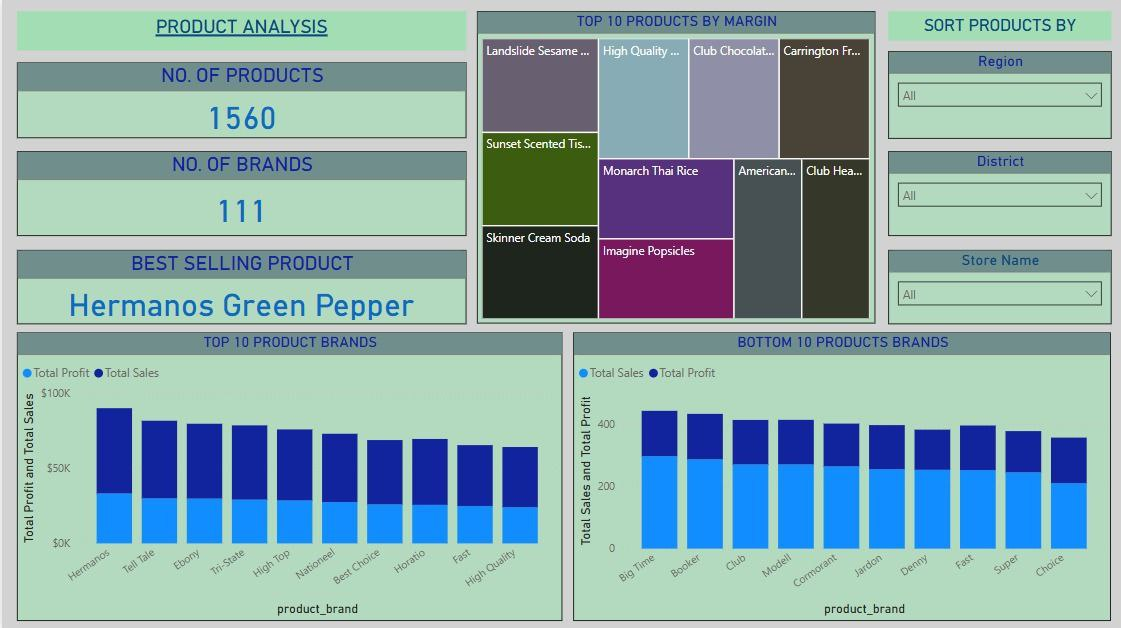

The page's visual inventory and layout, read from the dashboard file:
{"tool":"powerbi","page":{"name":"Product analysis","canvas":[1280,720],"ordinal":4},"visuals":[{"type":"columnChart","title":"BOTTOM 10 PRODUCTS BRANDS","fields":{"Category":["products.product_brand"],"Y":["Transactions _1997.Total Sales","Transactions _1997.Total Profit"]},"box":[653.2,380.1,614.8,329.3],"z":0},{"type":"columnChart","title":"TOP 10 PRODUCT BRANDS","fields":{"Category":["products.product_brand"],"Y":["Transactions _1997.Total Profit","Transactions _1997.Total Sales"]},"box":[16.5,380.1,623,329.3],"z":1000},{"type":"treemap","title":"TOP 10 PRODUCTS BY MARGIN","fields":{"Group":["products.product_name"],"Values":["Sum(products.ProductMargin%)"]},"box":[543.3,13.3,455,356.7],"z":2000},{"type":"slicer","title":"Region","fields":{"Values":["Regions.sales_region"]},"box":[1013.3,58.3,255,100],"z":3000},{"type":"slicer","title":"District","fields":{"Values":["Regions.sales_district"]},"box":[1013.3,173.3,255,96.7],"z":4000},{"type":"slicer","title":"Store Name","fields":{"Values":["Market_Stores.store_name"]},"box":[1013.3,285,255,85],"z":5000},{"type":"textbox","box":[1013.3,13.3,255,33.3],"z":6000},{"type":"card","title":"BEST SELLING PRODUCT","fields":{"Values":["Min(products.product_name)"]},"box":[16.7,285,513.3,85],"z":7000},{"type":"textbox","box":[16.7,13.3,513.3,45],"z":8000},{"type":"card","title":"NO. OF BRANDS","fields":{"Values":["Count(products.product_brand)"]},"box":[16.7,173.3,513.3,96.7],"z":9000},{"type":"card","title":"NO. OF PRODUCTS","fields":{"Values":["Count(products.product_name)"]},"box":[16.7,71.7,513.3,86.7],"z":10000}]}

Visuals, with their boxes in screenshot pixels (x1, y1, x2, y2), scaled from the page's 1280x720 canvas onto the 1121x628 screenshot:
"BOTTOM 10 PRODUCTS BRANDS" columnChart: pyautogui.locateOnScreen(572, 332, 1110, 619)
"TOP 10 PRODUCT BRANDS" columnChart: pyautogui.locateOnScreen(14, 332, 560, 619)
"TOP 10 PRODUCTS BY MARGIN" treemap: pyautogui.locateOnScreen(476, 12, 874, 323)
"Region" slicer: pyautogui.locateOnScreen(887, 51, 1111, 138)
"District" slicer: pyautogui.locateOnScreen(887, 151, 1111, 236)
"Store Name" slicer: pyautogui.locateOnScreen(887, 249, 1111, 323)
textbox: pyautogui.locateOnScreen(887, 12, 1111, 41)
"BEST SELLING PRODUCT" card: pyautogui.locateOnScreen(15, 249, 464, 323)
textbox: pyautogui.locateOnScreen(15, 12, 464, 51)
"NO. OF BRANDS" card: pyautogui.locateOnScreen(15, 151, 464, 236)
"NO. OF PRODUCTS" card: pyautogui.locateOnScreen(15, 63, 464, 138)
